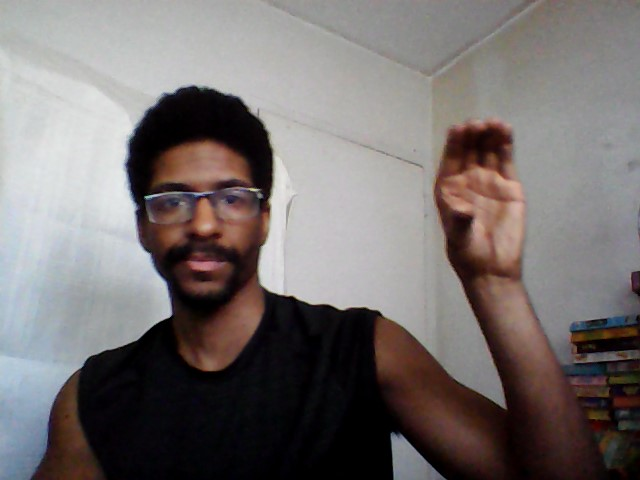c: (431, 113, 531, 281)
